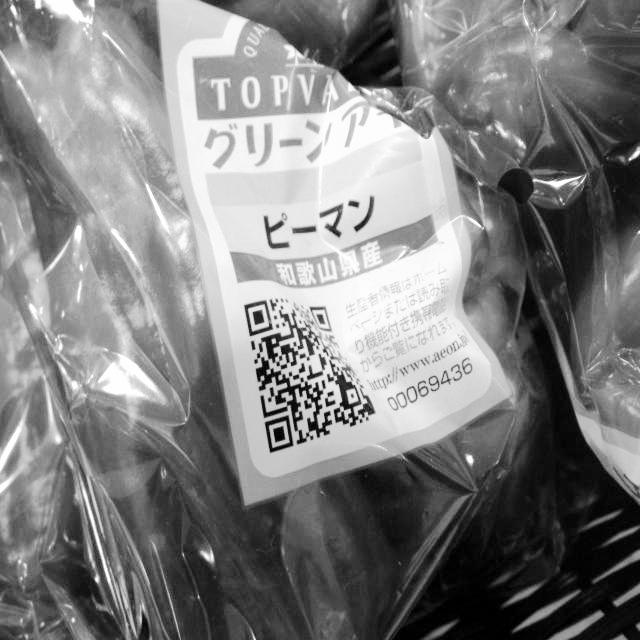qr_code: (244, 299, 378, 453)
